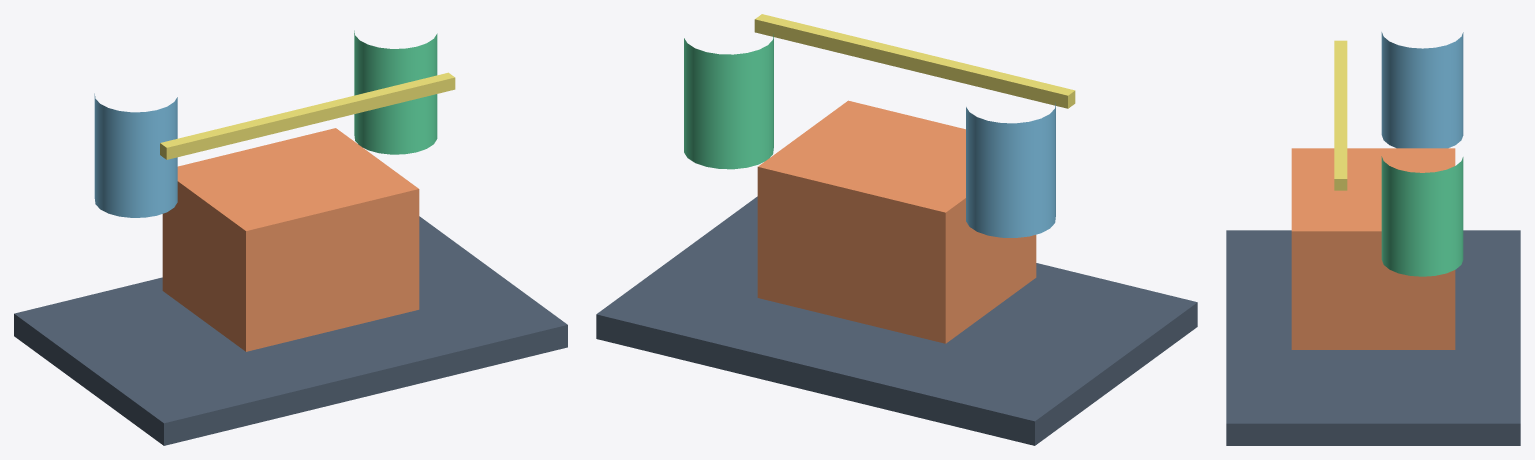
Rendered from java_programming.glb.
3 views of the same model, side by side, from view 1: azimuth 30°, elevation 25°; view 2: azimuth 150°, elevation 25°; view 3: azimuth 270°, elevation 25° (orthographic). The views are drawn at different scales.
Visible parts, largest first — view 1: JVMStackHeapBase, JVMBytecodeExecutionCore, ThreadWorkerCylinder1, ThreadWorkerCylinder2, GarbageCollectorBeam; view 2: JVMStackHeapBase, JVMBytecodeExecutionCore, ThreadWorkerCylinder2, ThreadWorkerCylinder1, GarbageCollectorBeam; view 3: JVMStackHeapBase, JVMBytecodeExecutionCore, ThreadWorkerCylinder2, ThreadWorkerCylinder1, GarbageCollectorBeam.
Boxes of the visible parts, x1,y1,x2,y2 form: JVMStackHeapBase: (14, 216, 567, 445); JVMBytecodeExecutionCore: (162, 128, 419, 351); ThreadWorkerCylinder1: (94, 93, 177, 217); ThreadWorkerCylinder2: (354, 30, 437, 154); GarbageCollectorBeam: (160, 72, 455, 159); JVMStackHeapBase: (596, 196, 1197, 445); JVMBytecodeExecutionCore: (757, 100, 1036, 343); ThreadWorkerCylinder2: (684, 34, 773, 169); ThreadWorkerCylinder1: (966, 102, 1055, 237); GarbageCollectorBeam: (754, 14, 1075, 108); JVMStackHeapBase: (1226, 230, 1520, 445); JVMBytecodeExecutionCore: (1291, 148, 1455, 349); ThreadWorkerCylinder2: (1381, 156, 1463, 276); ThreadWorkerCylinder1: (1381, 32, 1463, 148); GarbageCollectorBeam: (1334, 40, 1347, 190).
Bounding box in the file's own units: 2.8 × 1.72 × 1.8.
